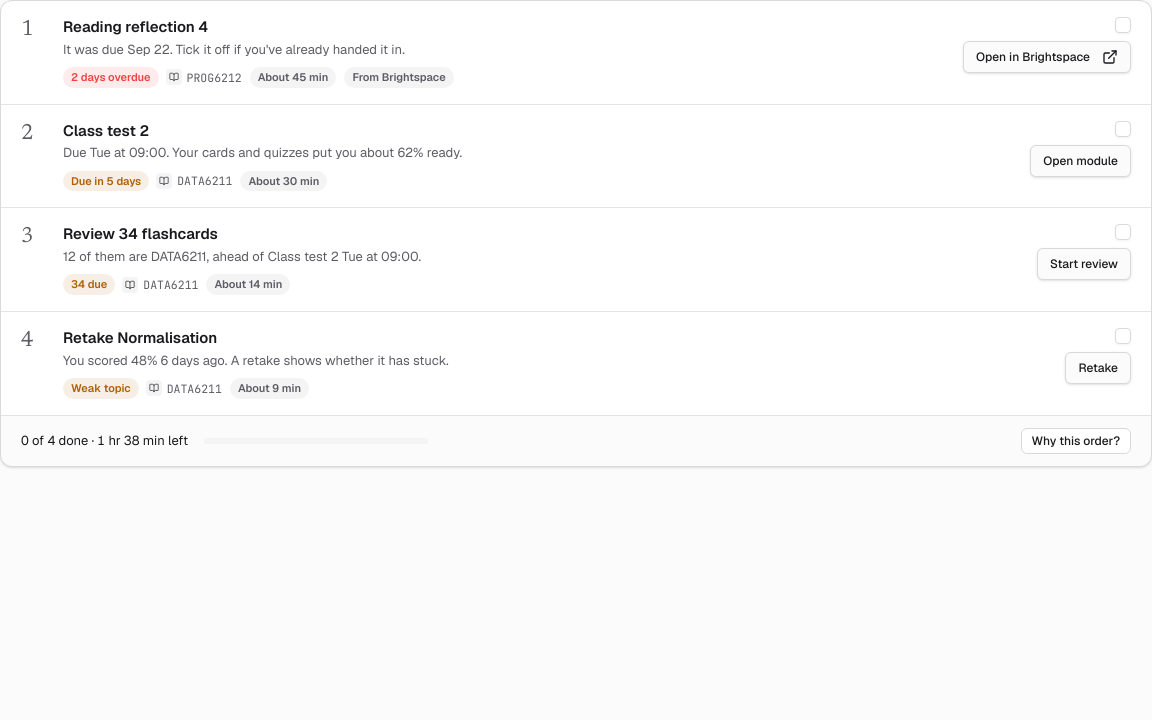
TodayPlan › explains the order, including overdue work left out of the plan
The image size is (1152, 720).
What coordinates should you click on to do the following:
click the button "Why this order?"
I would click on:
 (1076, 440)
Its box is [1021,428,1131,454].
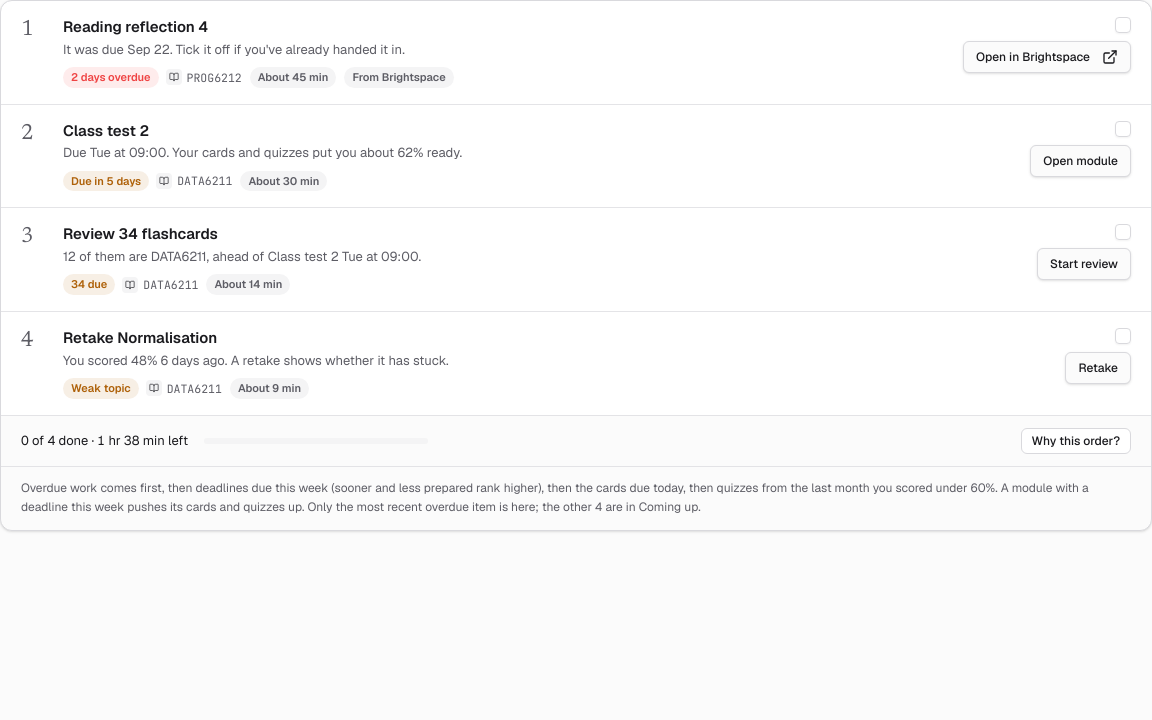
Now the text "the other 4 are in Coming up" is shown, box [304,499,701,515]
